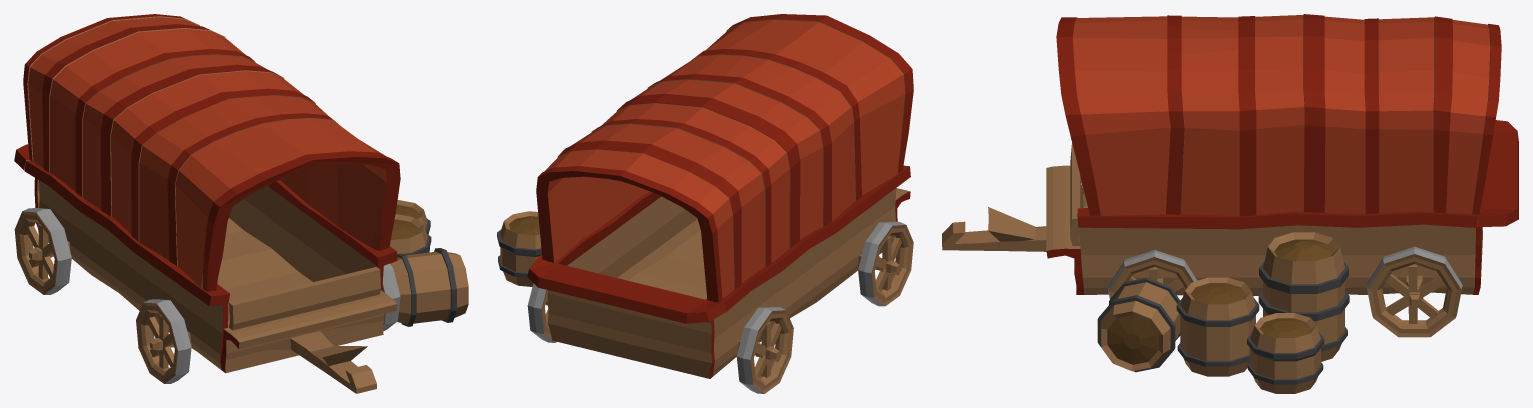
Rendered from Building_LV2_HorseCargo_Red.fbx.
3 views of the same model, side by side, from view 1: azimuth 30°, elevation 25°; view 2: azimuth 150°, elevation 25°; view 3: azimuth 270°, elevation 25° (orthographic). The views are drawn at different scales.
Visible parts, largest first — view 1: Carriage_Red; view 2: Carriage_Red; view 3: Carriage_Red.
Part boxes in pixels (bbox=[...]): Carriage_Red: bbox=[14, 14, 468, 393]; Carriage_Red: bbox=[497, 14, 913, 393]; Carriage_Red: bbox=[942, 14, 1518, 393].
Bounding box in the file's own units: 459 × 301 × 635.
Materials: 2 (2 with a texture image).
